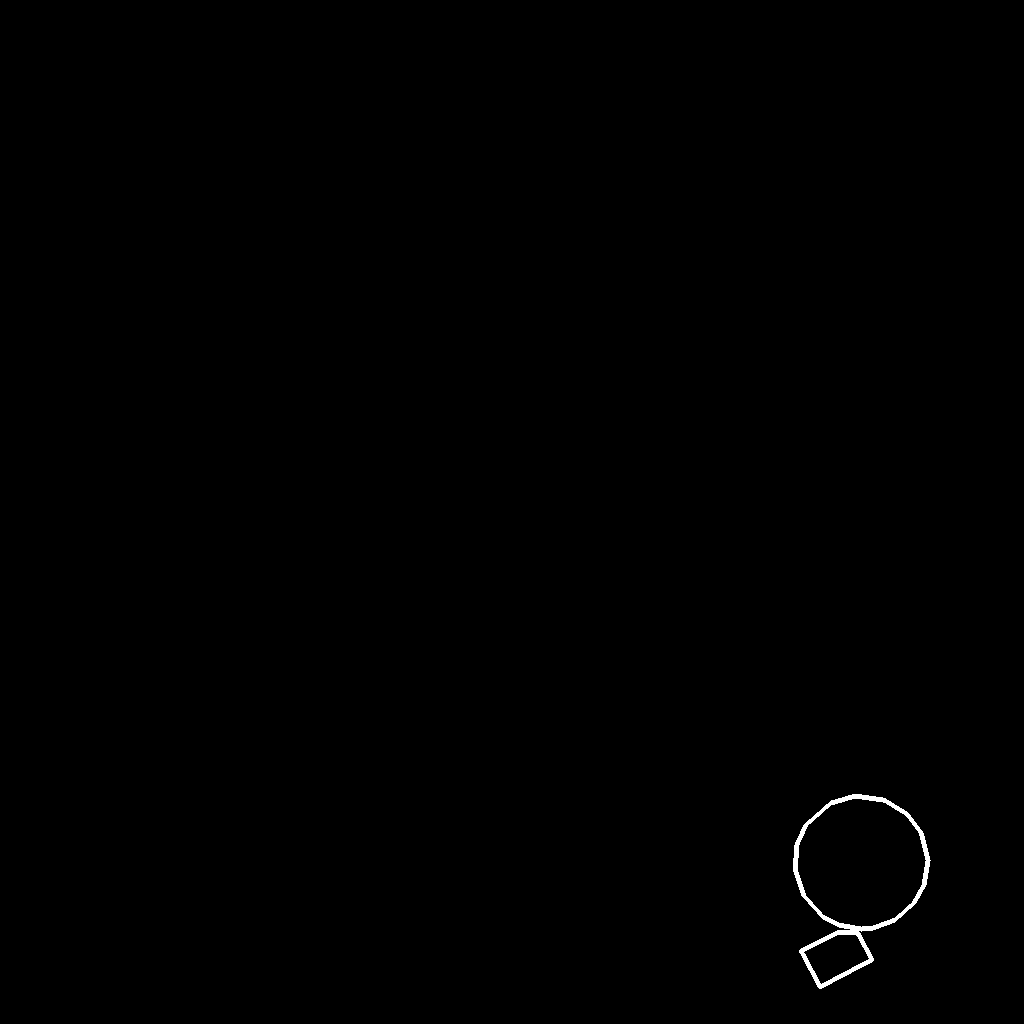building: (795, 796, 929, 930), (801, 932, 873, 988)
